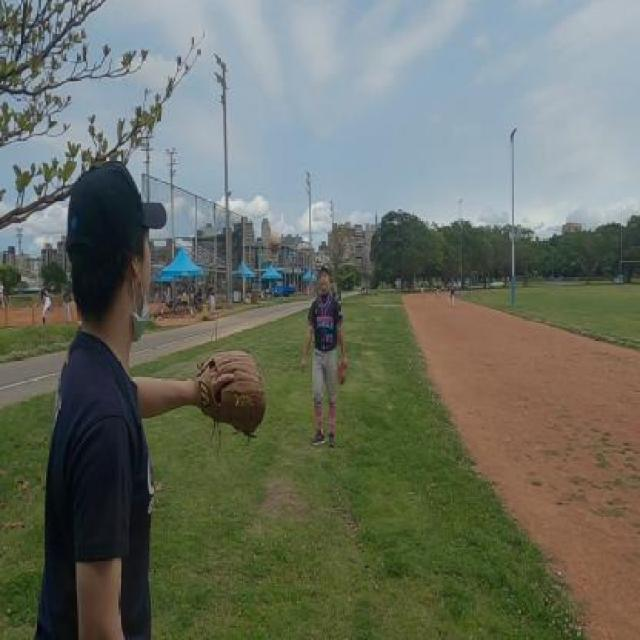baseball: (268, 232, 281, 253)
